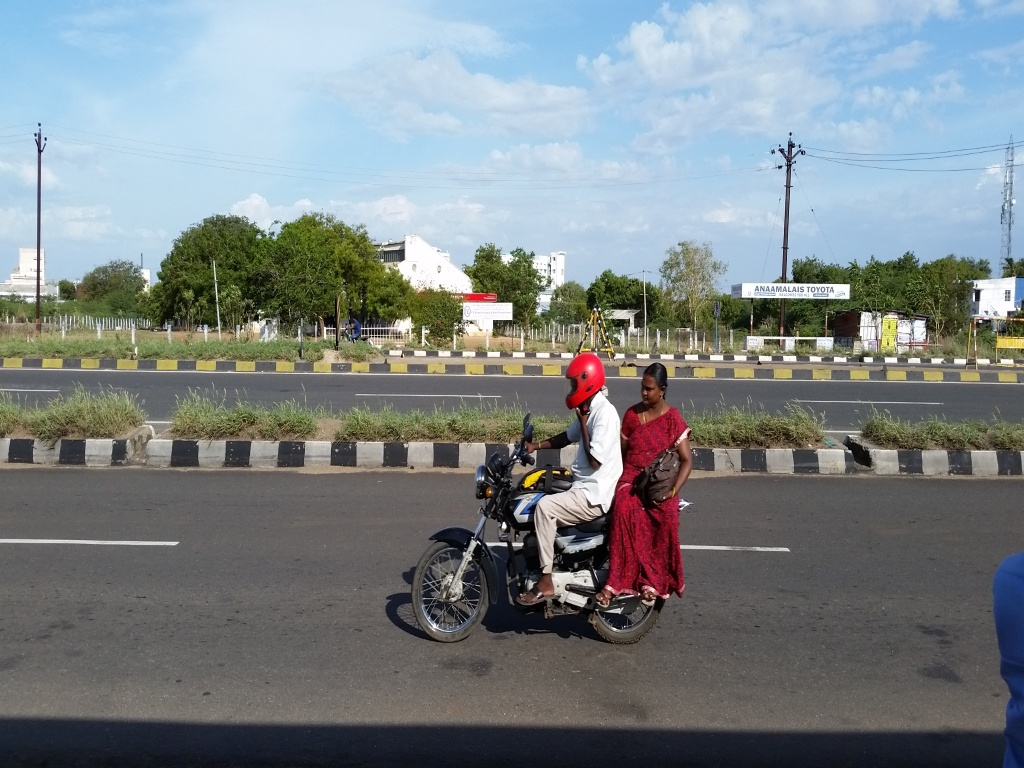biker: (392, 315, 710, 656)
helmet: (558, 344, 611, 421)
nohelmet: (628, 343, 681, 420)
